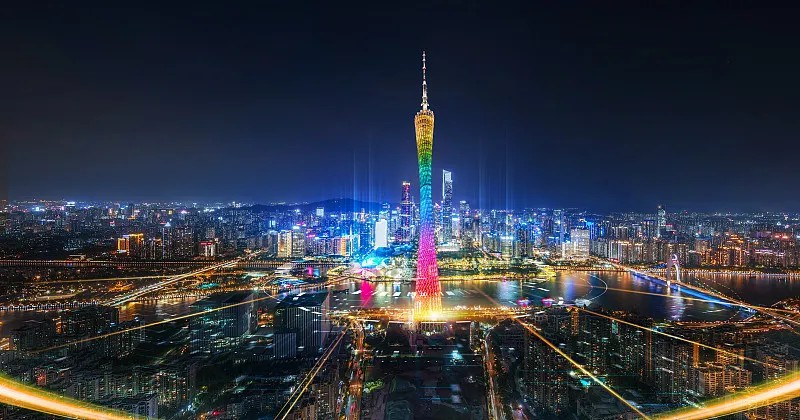Canton: (408, 48, 442, 317)
